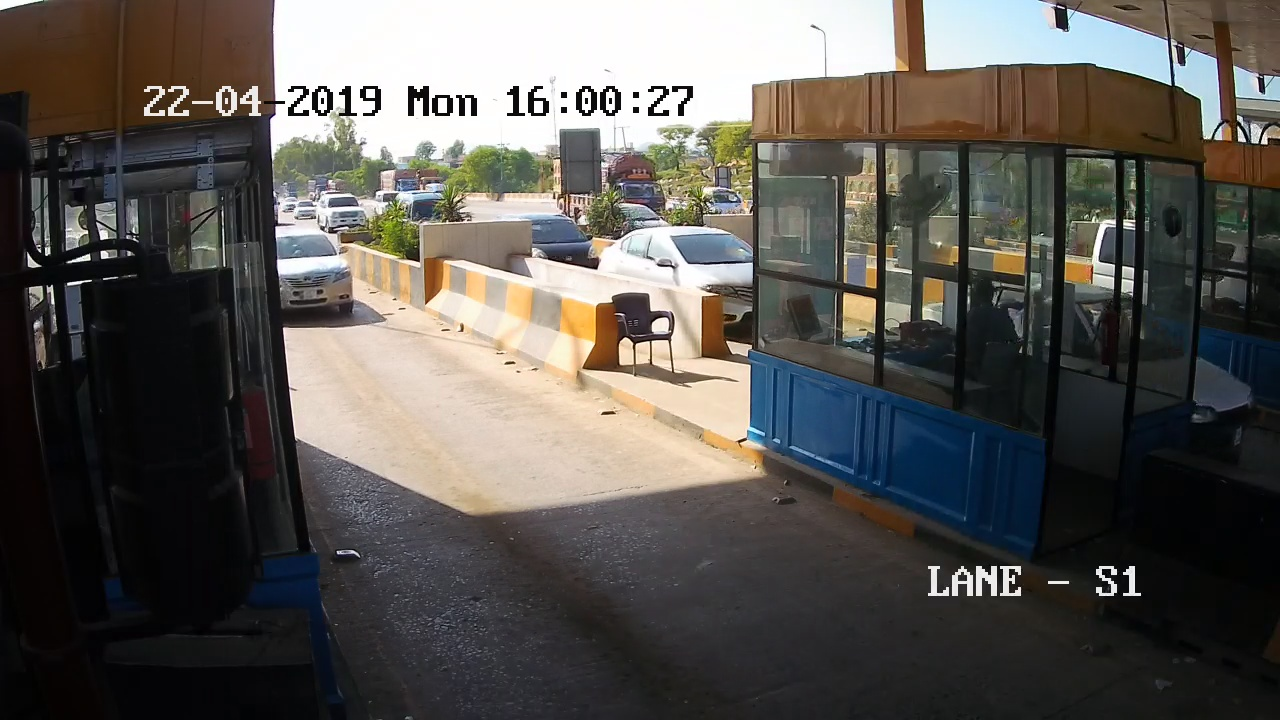car: (275, 228, 371, 337)
